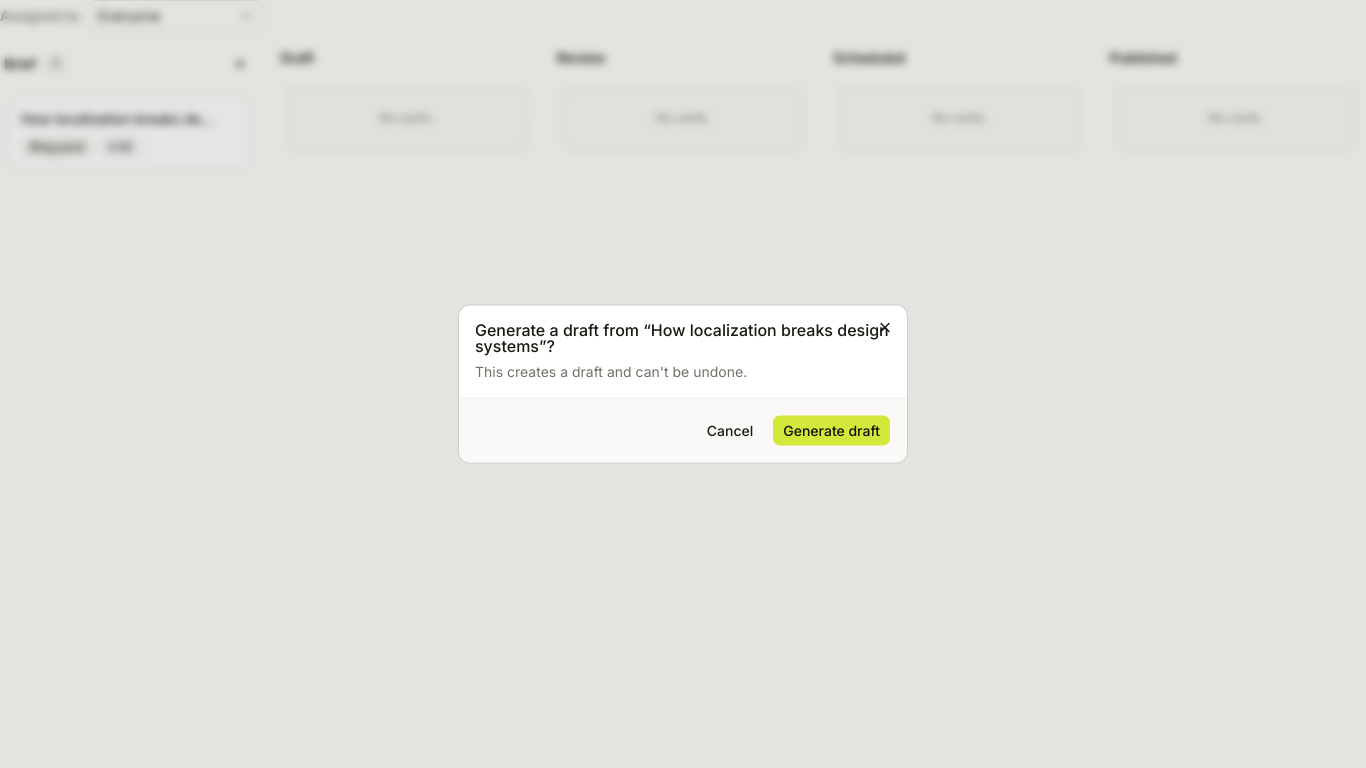
Test: the board's drop onto Draft, into the modal › stops promising a minute once the poll has given up
What coordinates should you click on to do the following:
click the button "Generate draft"
I would click on:
 (832, 430)
Its box is [772,414,891,446].
Wait 600000 ms
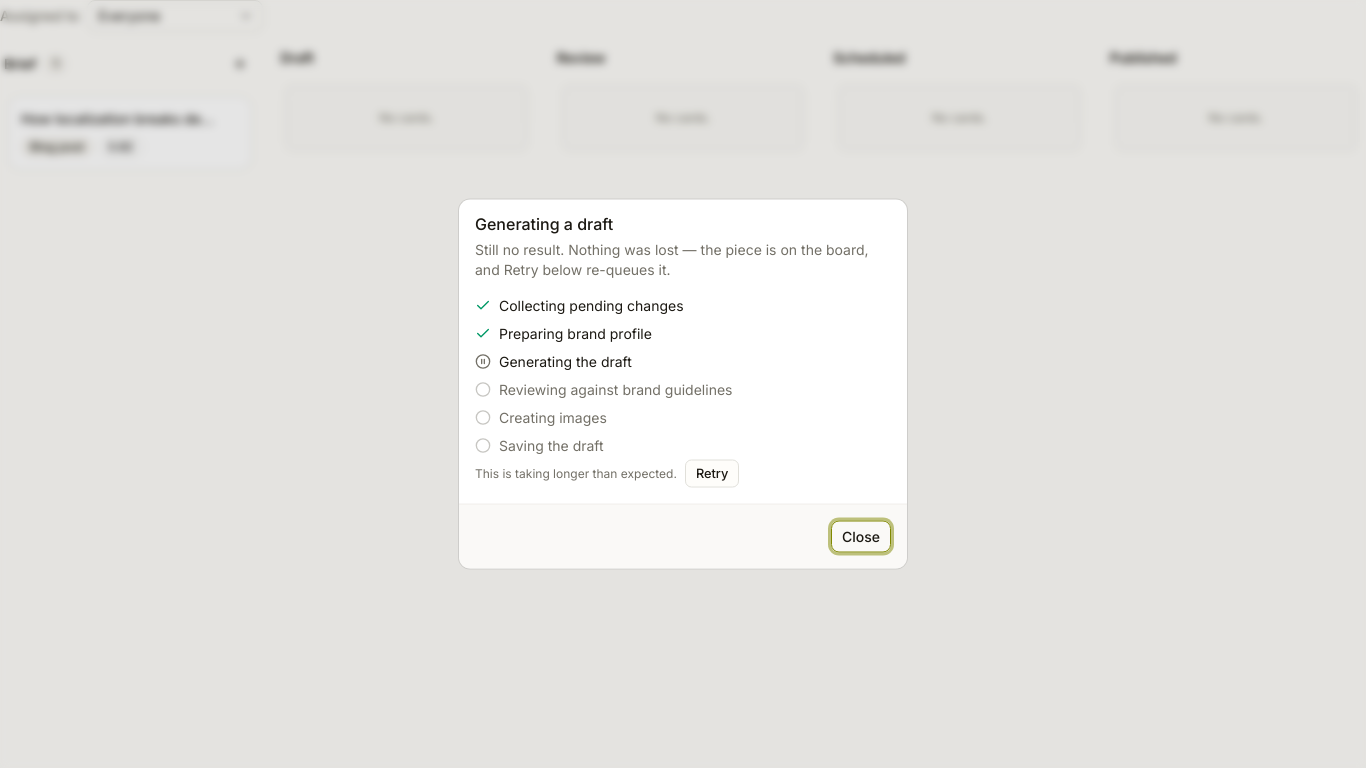
Check: the text "takes a minute or so" is shown, box [475,240,891,280]
Check: the text "Still no result" is shown, box [475,240,869,278]
Check: the text "This is taking longer than expected." is shown, box [475,466,677,482]
